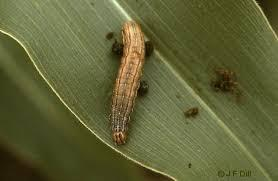fallarmy_worm: (107, 18, 146, 149)
